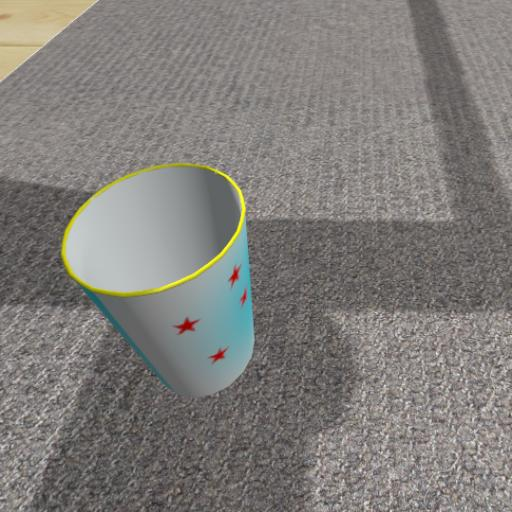Trash: (39, 152, 319, 442)
